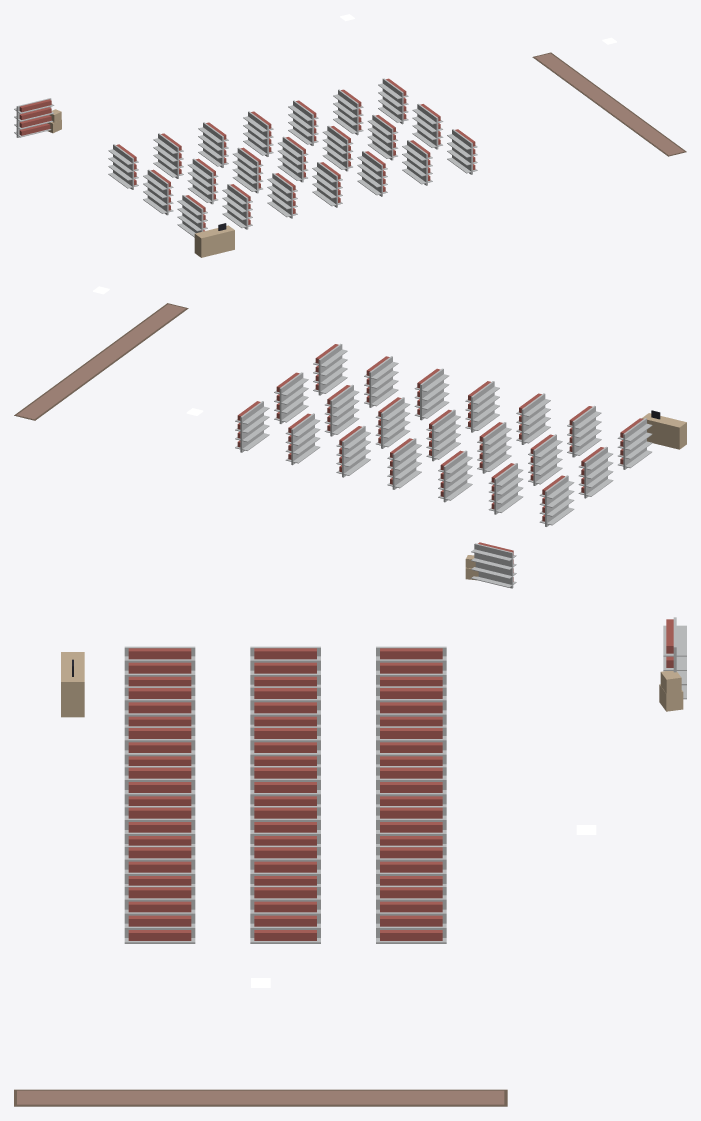
File: fine-s0.glb
3 views of the same model, one above another, from view 1: azimuth 30°, elevation 25°; view 2: azimuth 150°, elevation 25°; view 3: azimuth 270°, elevation 25° (orthographic). The views are drawn at different scales.
Parts seen in each view (by area): view 1: soft-s0, shelving.000, shop-counter.000, shelf.018, shelf.005, shelf.007, shelf.017, shelf.019, shelf.000, shelf.001, shelf.004, shelf.013 (+12 smaller); view 2: soft-s0, shelving.000, shelf.007, shelf.006, shelf.020, shelf.019, shelf.015, shelf.000, shelf.014, shelf.017, shelf.004, shelf.018 (+12 smaller); view 3: soft-s0, shelf.020, shelf.018, shelf.019, shelf.005, shelf.017, shelf.002, shelf.000, shelf.001, shelf.003, shelf.004, shelf.015 (+13 smaller).
Boxes of the visible parts, x1,y1,x2,y2 form: soft-s0: (532,52,686,156); shelving.000: (14,98,54,137); shop-counter.000: (194,223,234,257); shelf.018: (378,78,408,124); shelf.005: (222,184,252,229); shelf.007: (232,147,263,193); shelf.017: (402,140,432,185); shelf.019: (412,103,443,149); shelf.000: (108,144,138,189); shelf.001: (143,169,173,215); shelf.004: (187,158,218,204); shelf.013: (322,125,353,171); soft-s0: (14,303,188,420); shelving.000: (471,542,516,588); shelf.007: (477,422,511,473); shelf.006: (438,450,472,502); shelf.020: (313,343,347,395); shelf.019: (274,372,308,423); shelf.015: (285,413,320,465); shelf.000: (539,475,574,526); shelf.014: (414,368,449,420); shelf.017: (364,356,398,407); shelf.004: (528,434,562,485); shelf.018: (235,401,269,452); soft-s0: (14,1089,507,1106); shelf.020: (124,885,195,943); shelf.018: (376,885,446,943); shelf.019: (250,885,320,943); shelf.005: (124,686,195,726); shelf.017: (124,845,195,885); shelf.002: (124,646,195,686); shelf.000: (376,646,446,686); shelf.001: (250,646,320,686); shelf.003: (376,686,446,726); shelf.004: (250,686,320,726); shelf.015: (376,845,446,885).
Size of the model in its own units: 26.05 by 3.26 by 17.14.
